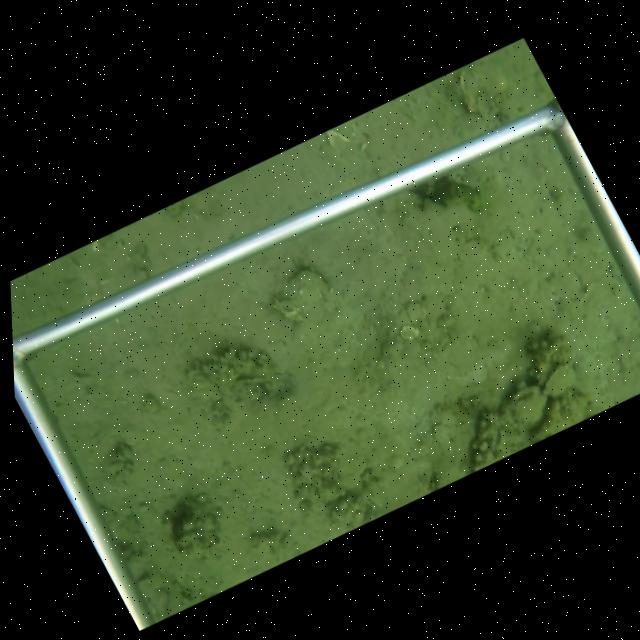Oyster-Closed: (507, 383, 546, 430), (232, 373, 270, 387)
Oyster-Indeterminate: (267, 264, 336, 329), (458, 56, 512, 116), (541, 361, 579, 399)
